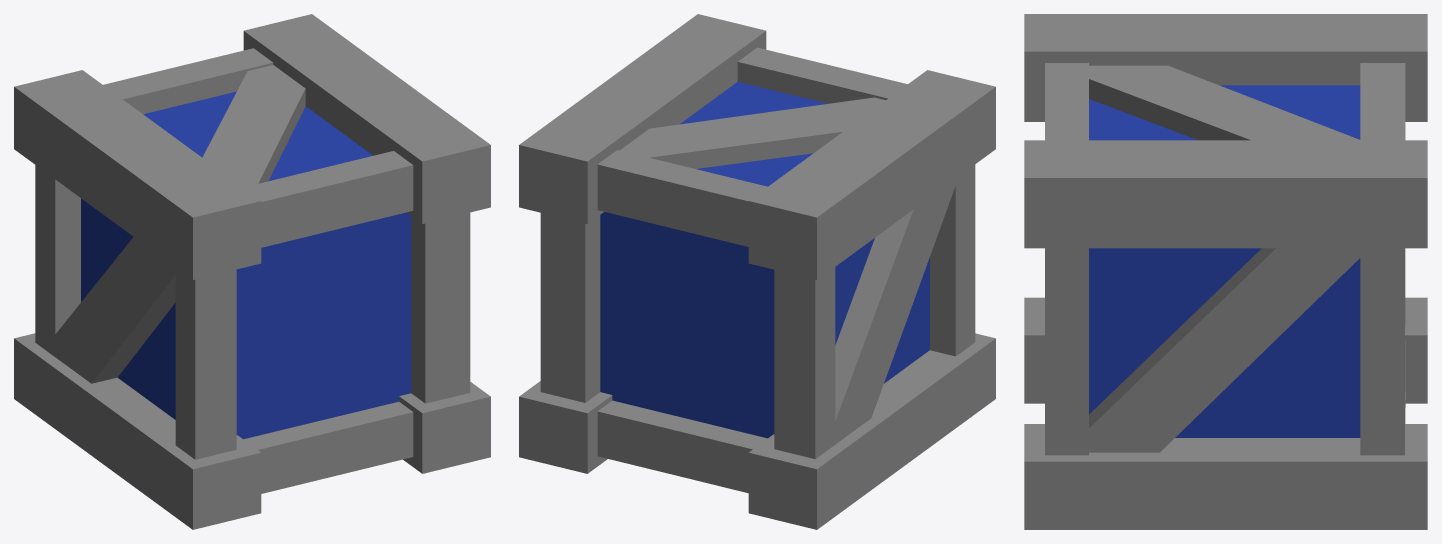
File: Woodbox_01_mm.fbx
3 views of the same model, side by side, from view 1: azimuth 30°, elevation 25°; view 2: azimuth 150°, elevation 25°; view 3: azimuth 270°, elevation 25° (orthographic). The views are drawn at different scales.
Visible parts, largest first — view 1: Woodbox_01; view 2: Woodbox_01; view 3: Woodbox_01.
Part boxes in pixels (x1=…): Woodbox_01: x1=14, y1=14, x2=490, y2=529; Woodbox_01: x1=519, y1=14, x2=995, y2=529; Woodbox_01: x1=1024, y1=14, x2=1427, y2=529.
Bounding box in the file's own units: 64.38 × 64.49 × 66.94.
